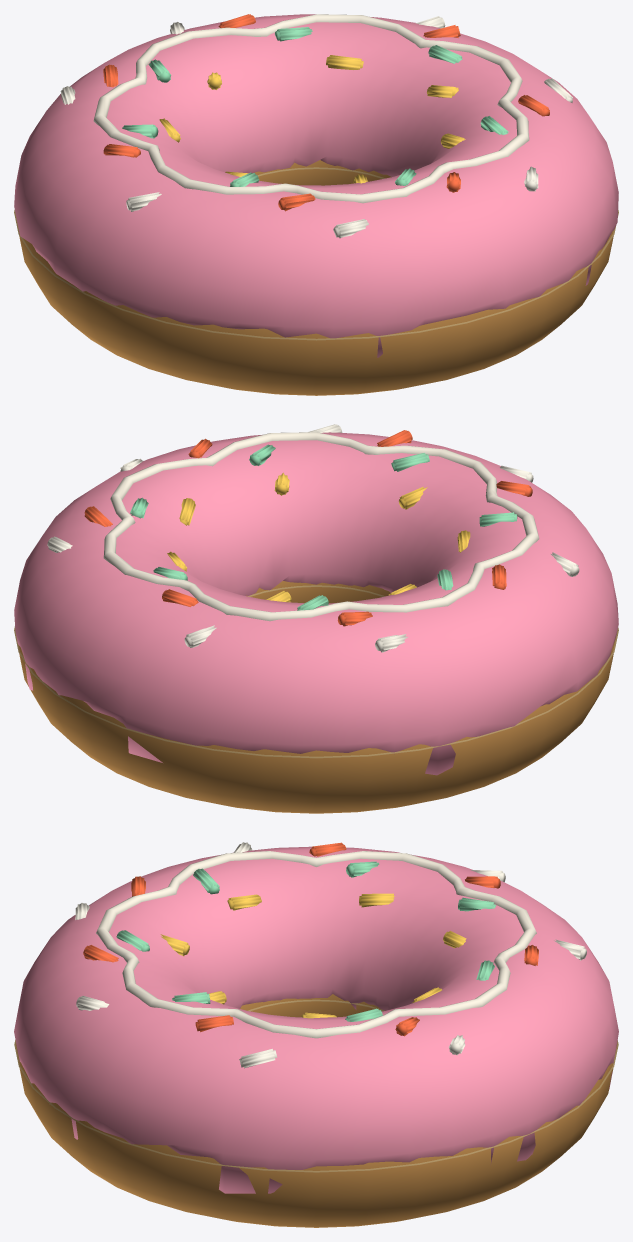
File: donut.glb
The picture shows the model from 3 angles, top to bottom: view 1: azimuth 30°, elevation 25°; view 2: azimuth 150°, elevation 25°; view 3: azimuth 270°, elevation 25°; orthographic projection.
Visible parts, largest first — view 1: PinkGlaze, DonutDough, Drizzle, FriedBand; view 2: PinkGlaze, DonutDough, Drizzle, FriedBand; view 3: PinkGlaze, DonutDough, Drizzle, FriedBand.
Boxes of the visible parts, left/top/right/bottom form: PinkGlaze: left=14, top=14, right=618, bottom=357; DonutDough: left=19, top=160, right=613, bottom=395; Drizzle: left=93, top=14, right=529, bottom=203; FriedBand: left=14, top=167, right=618, bottom=340; PinkGlaze: left=14, top=432, right=618, bottom=775; DonutDough: left=18, top=581, right=615, bottom=813; Drizzle: left=103, top=432, right=539, bottom=621; FriedBand: left=14, top=585, right=618, bottom=758; PinkGlaze: left=14, top=846, right=618, bottom=1193; DonutDough: left=15, top=994, right=617, bottom=1227; Drizzle: left=96, top=851, right=536, bottom=1038; FriedBand: left=14, top=999, right=618, bottom=1172.
Size of the model in its own units: 1.65 by 0.6025 by 1.65.
